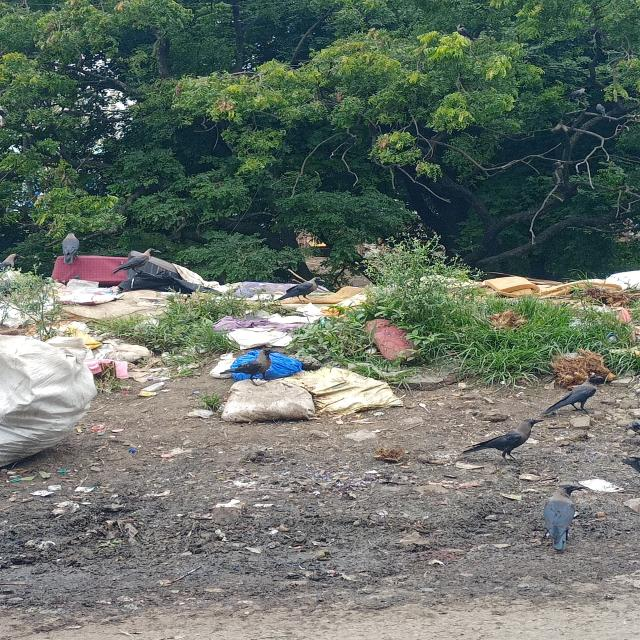garbage: (12, 253, 410, 404), (461, 269, 640, 359)
